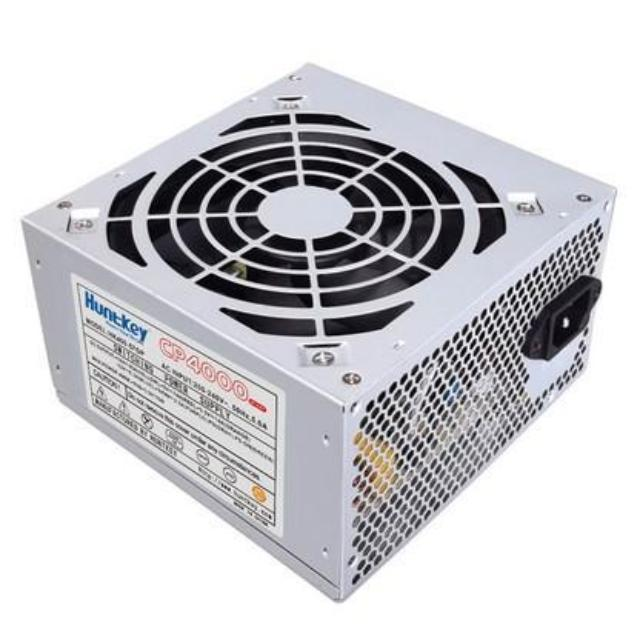PSU: (18, 50, 627, 605)
